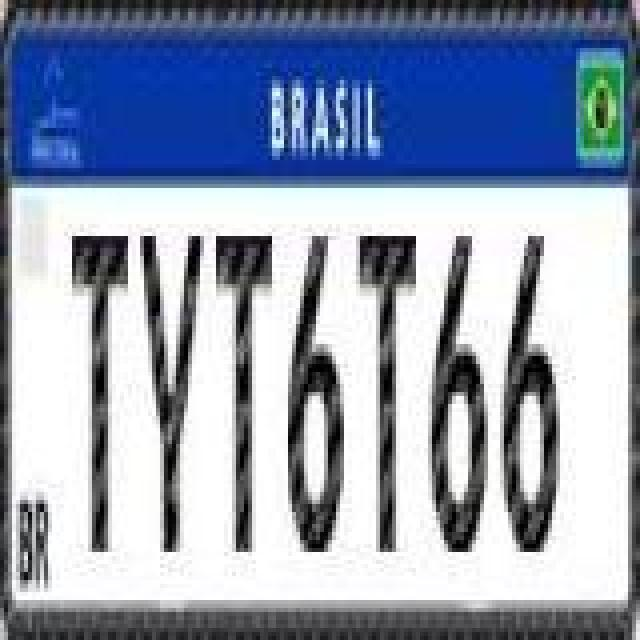6: (424, 224, 488, 560), (496, 224, 560, 560), (284, 230, 348, 554)
T: (212, 224, 276, 560), (356, 220, 420, 556), (68, 230, 132, 554)
Y: (138, 230, 206, 554)
